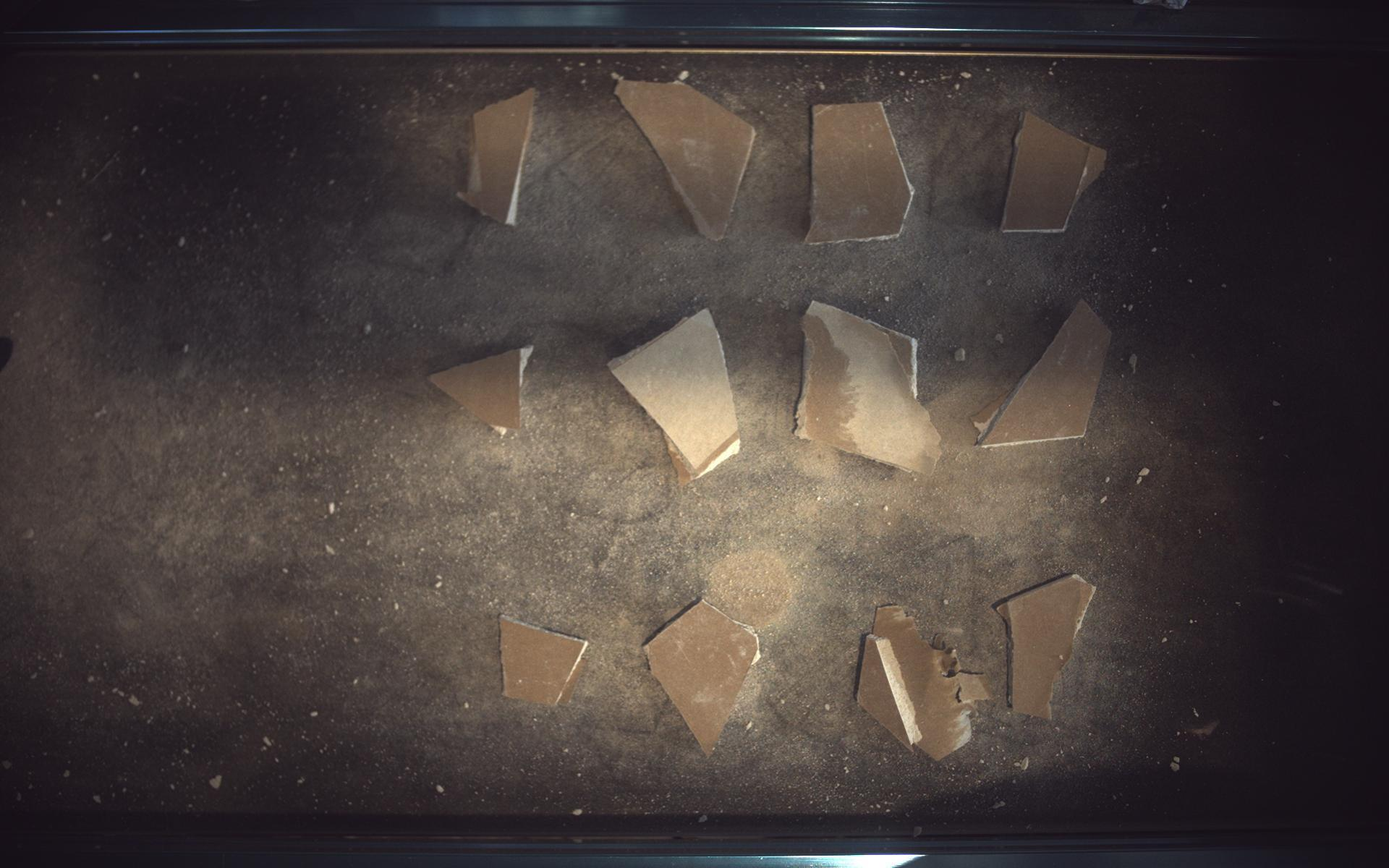gypsum_board: (797, 301, 943, 475), (609, 309, 742, 485), (616, 78, 757, 239), (974, 300, 1114, 447), (859, 608, 992, 761), (645, 601, 760, 757), (807, 101, 915, 243), (999, 575, 1098, 720), (1003, 111, 1109, 231), (457, 88, 536, 225), (429, 346, 534, 432), (500, 617, 589, 706)
